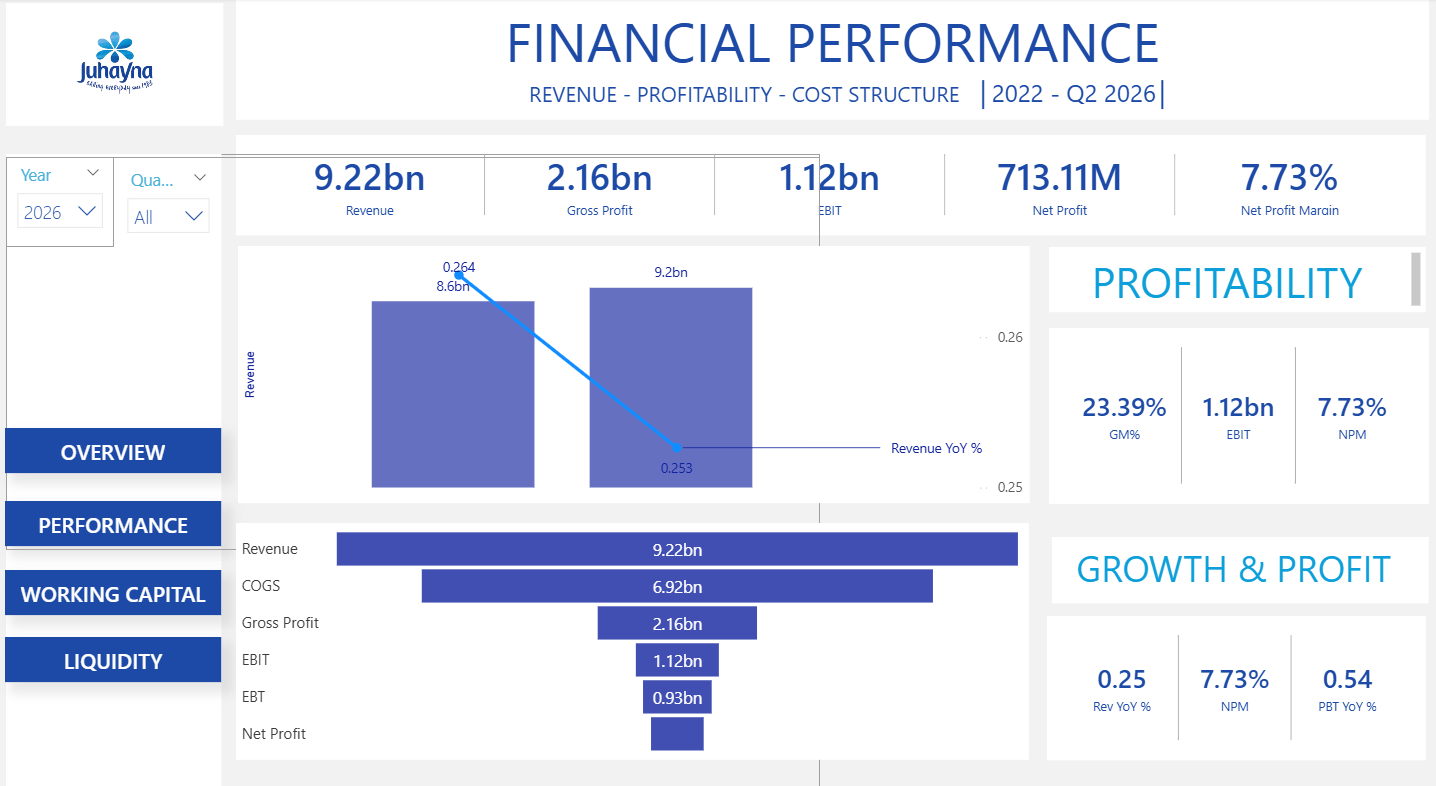

What the dashboard file says about the page in this screenshot:
{"tool":"powerbi","page":{"name":"OVERVIEW ","canvas":[1280,720],"ordinal":0},"visuals":[{"type":"shape","box":[11.1,4,192.5,123.9],"z":0,"group":"g5"},{"type":"shape","box":[214.4,7.8,1058.3,123],"z":0,"group":"g6"},{"type":"shape","box":[7.7,137.9,194.4,565.6],"z":0,"group":"g7"},{"type":"slicer","title":"quarter","fields":{"Values":["Dim_Date.Quarter"]},"box":[108.1,145.4,93.1,75.4],"z":0,"group":"g2"},{"type":"shape","box":[754.9,234.3,518,58.5],"z":0,"group":"g3"},{"type":"shape","box":[214.7,234.8,518,255],"z":0,"group":"g9"},{"type":"group","id":"g1","title":"LIQUI & LEV title","box":[686,497.1,586.6,59.7],"z":0,"group":"g8"},{"type":"shape","box":[686,498.6,586.6,58.6],"z":0,"group":"g1"},{"type":"shape","box":[215,499.8,459.7,58.6],"z":0,"group":"g4"},{"type":"textbox","box":[214.4,7.8,1058.3,123],"z":1000,"group":"g6"},{"type":"image","box":[11.1,8,191.8,119.8],"z":1000,"group":"g5"},{"type":"slicer","title":"year","fields":{"Values":["Dim_Date.Year"]},"box":[10.8,141,95.8,79.5],"z":1000,"group":"g2"},{"type":"group","id":"g2","title":"Slicers","box":[10.8,141,721.9,348.8],"z":1000,"group":"g7"},{"type":"textbox","box":[754.9,232.8,516.9,60],"z":1000,"group":"g3"},{"type":"group","id":"g3","title":"PROFITABILITY title","box":[754.9,232.8,518,59.5],"z":1000},{"type":"lineChart","fields":{"Category":["Dim_Date.Quarter"],"Y":["measurehosam.EBIT","measurehosam.Revenue"]},"box":[214.6,236.7,517.8,255.4],"z":1000,"group":"g9"},{"type":"textbox","box":[686,497.1,585.3,60.2],"z":1000,"group":"g1"},{"type":"textbox","box":[215,498.3,458.7,60.2],"z":1000,"group":"g4"},{"type":"cardVisual","title":"LIQU & LEVE cards","fields":{"Data":["measurehosam.Current Ratio","measurehosam.Quick Ratio","measurehosam.Cash Ratio","measurehosam.Net Debt to EBIT"]},"box":[685.9,566.3,586.9,137.2],"z":1000,"group":"g8"},{"type":"cardVisual","title":"CAPITALE cards","fields":{"Data":["saief.DIO","saief.DSO","saief.DPO","saief.CCC"]},"box":[215,566.6,457.3,136.7],"z":2000,"group":"g4"},{"type":"group","id":"g4","title":"WORKING CAPITAL ","box":[215,498.3,459.7,205],"z":3000},{"type":"group","id":"g5","title":"Logo","box":[11.1,4,191.5,123],"z":4000},{"type":"group","id":"g6","title":"Title","box":[214.4,7.8,1058.9,122.2],"z":5000},{"type":"group","id":"g7","title":"Slicer Pane","box":[7.7,137.9,725,565.6],"z":6000},{"type":"group","id":"g8","title":"LIQUIDITY & LEVERAGE","box":[685.9,497.1,586.9,206.3],"z":7000},{"type":"group","id":"g9","title":"ebit and revenue","box":[214.6,234.8,518.1,257.3],"z":8000},{"type":"actionButton","box":[9.3,381.4,191.7,40.4],"z":9000},{"type":"actionButton","box":[9.3,445.7,191.7,40.4],"z":10000},{"type":"actionButton","box":[9.3,506.8,191.7,40.4],"z":11000},{"type":"actionButton","box":[9.3,566.9,191.7,40.4],"z":12000},{"type":"cardVisual","title":"CAPITALE cards","fields":{"Data":["measurehosam.Revenue","measurehosam.EBIT","ahmed_measures.EBT","measurehosam.Net_Income","measurehosam.ROE"]},"box":[214.4,135.6,1054.4,85.6],"z":14000},{"type":"cardVisual","title":"CAPITALE cards","fields":{"Data":["ahmed_measures.EBIT Margin","measurehosam.Gross Margin %"]},"box":[750,306.7,525.6,85.6],"z":15000},{"type":"cardVisual","title":"CAPITALE cards","fields":{"Data":["ahmed_measures.Net Profit Margin","ahmed_measures.EBIT Margin"]},"box":[750,400,525.6,85.6],"z":16000}]}

Visuals, with their boxes in screenshot pixels (x1, y1, x2, y2), scaled from the page's 1280x720 canvas onto the 1436x786 screenshot:
shape: [12,4,228,140]
shape: [241,9,1428,143]
shape: [9,151,227,768]
"quarter" slicer: [121,159,226,241]
shape: [847,256,1428,320]
shape: [241,256,822,535]
"LIQUI & LEV title" group: [770,543,1428,608]
shape: [770,544,1428,608]
shape: [241,546,757,610]
textbox: [241,9,1428,143]
image: [12,9,228,140]
"year" slicer: [12,154,120,241]
"Slicers" group: [12,154,822,535]
textbox: [847,254,1427,320]
"PROFITABILITY title" group: [847,254,1428,319]
lineChart - Dim_Date.Quarter x measurehosam.EBIT: [241,258,822,537]
textbox: [770,543,1426,608]
textbox: [241,544,756,610]
"LIQU & LEVE cards" cardVisual: [769,618,1428,768]
"CAPITALE cards" cardVisual: [241,619,754,768]
"WORKING CAPITAL " group: [241,544,757,768]
"Logo" group: [12,4,227,139]
"Title" group: [241,9,1428,142]
"Slicer Pane" group: [9,151,822,768]
"LIQUIDITY & LEVERAGE" group: [769,543,1428,768]
"ebit and revenue" group: [241,256,822,537]
actionButton: [10,416,225,460]
actionButton: [10,487,225,531]
actionButton: [10,553,225,597]
actionButton: [10,619,225,663]
"CAPITALE cards" cardVisual: [241,148,1423,241]
"CAPITALE cards" cardVisual: [841,335,1431,428]
"CAPITALE cards" cardVisual: [841,437,1431,530]
